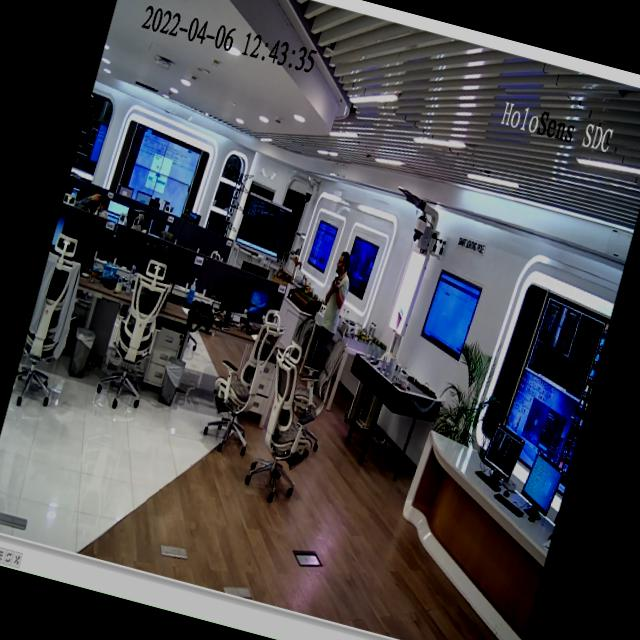long weapon: (328, 275, 341, 294)
